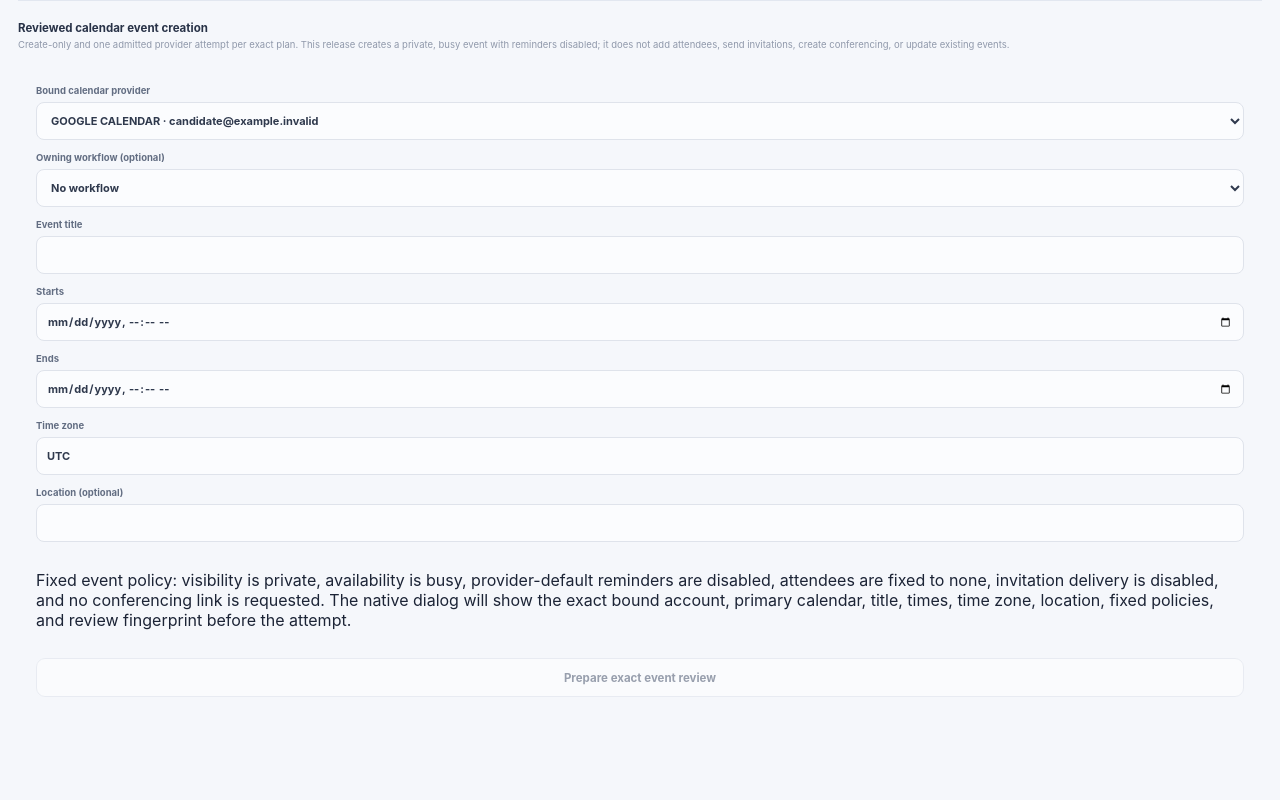
it: calendar event panel › prepares only a create-only event with no attendees, invitations, or conferencing
Expected: the text "does not add attendees, send invitations" is shown, x1=18 y1=39 x2=1010 y2=50
Select "Example employer · Software Engineer · workflow-1" in the dropdown labelled "Owning workflow (optional)" at (640, 188), box x1=36 y1=169 x2=1244 y2=207
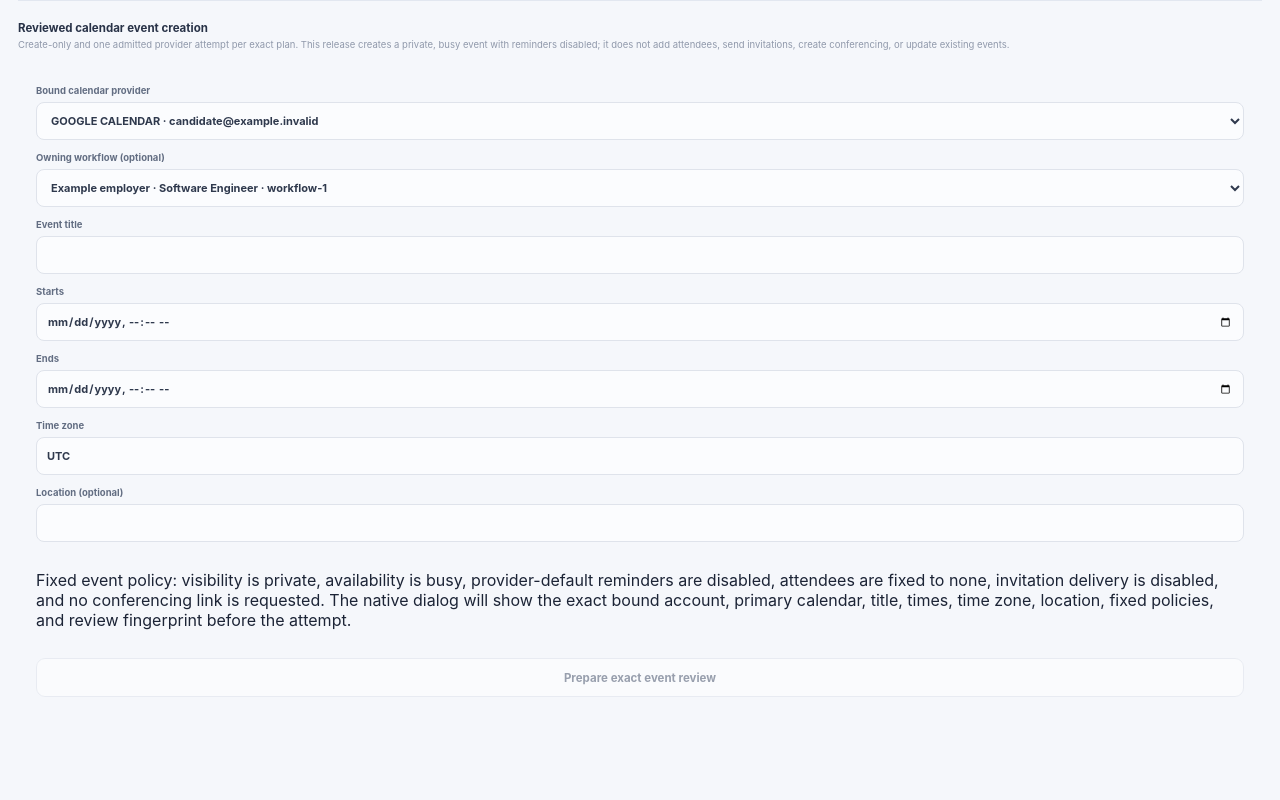
Type "Interview with Example Co" into the field labelled "Event title" at (640, 255), box x1=36 y1=236 x2=1244 y2=274
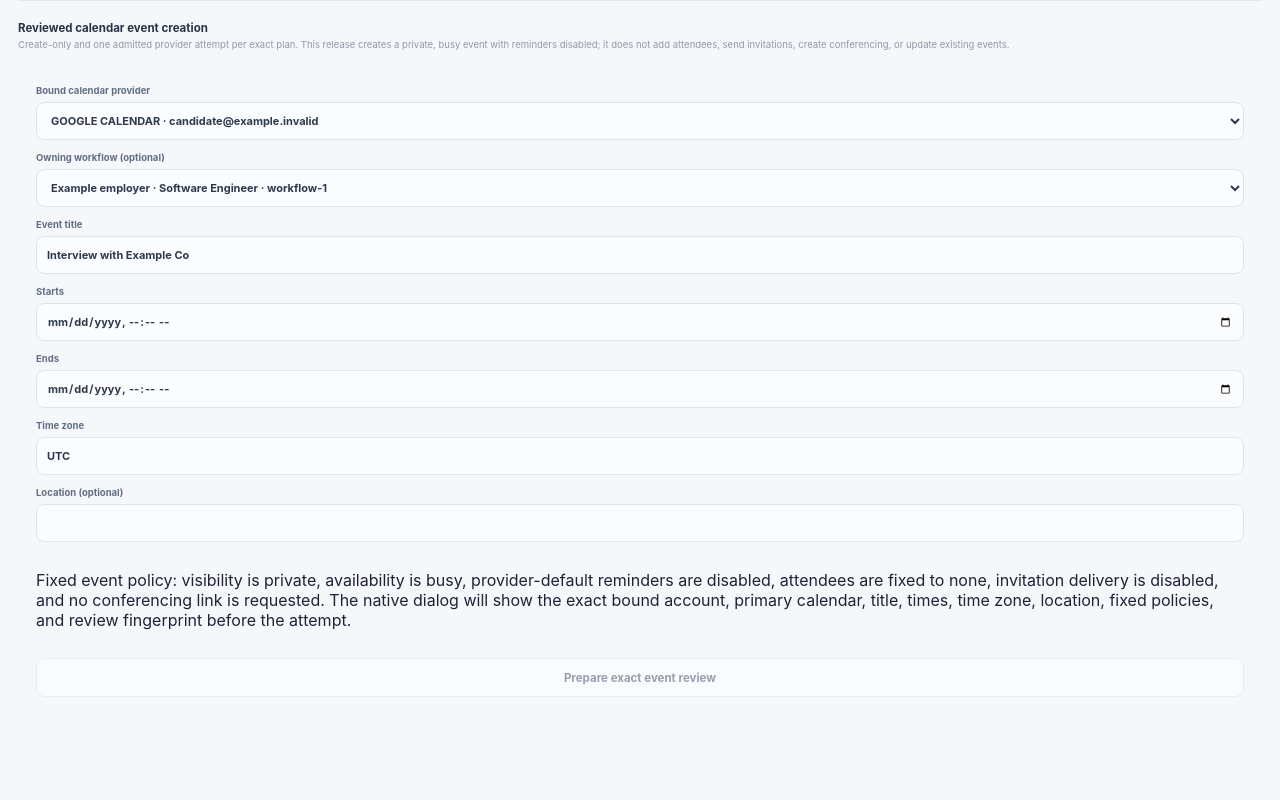
Type "2026-10-15T10:00" into the field labelled "Starts" at (640, 322), box x1=36 y1=303 x2=1244 y2=341
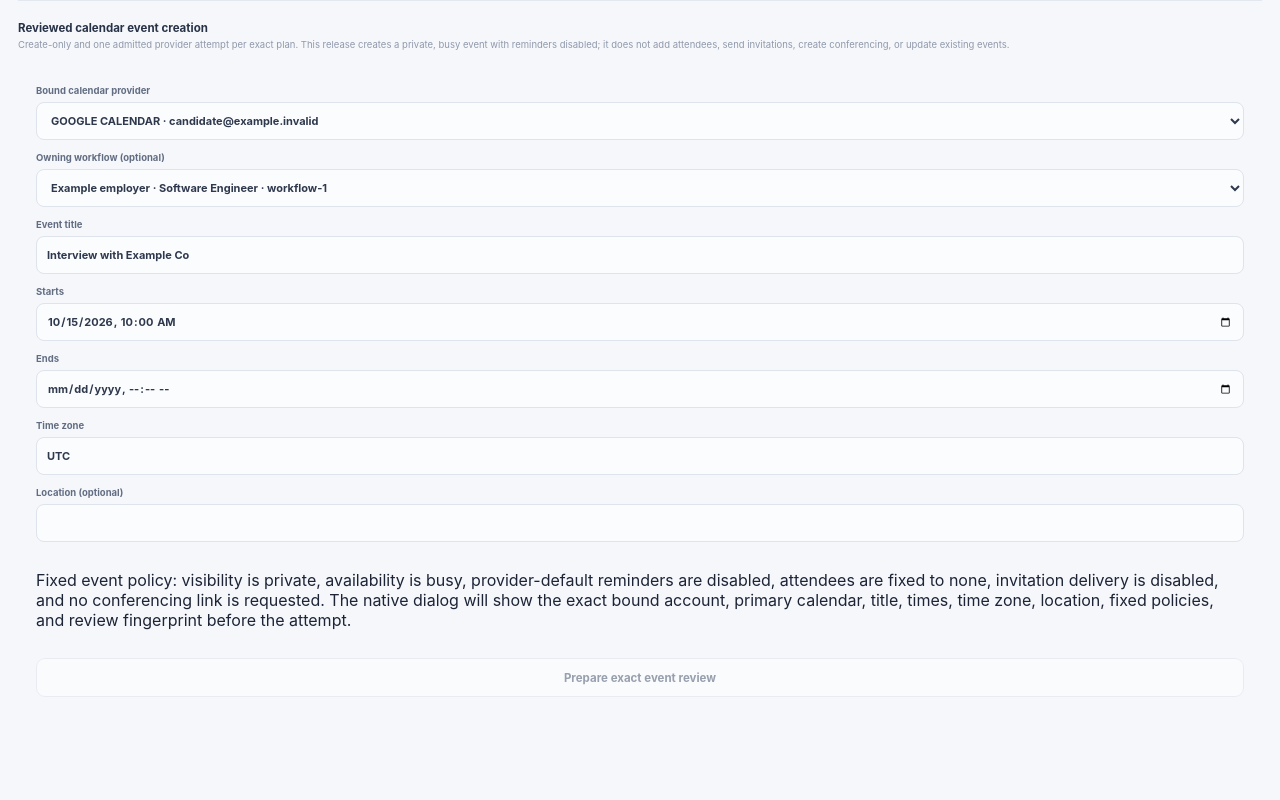
Type "2026-10-15T11:00" into the field labelled "Ends" at (640, 389), box x1=36 y1=370 x2=1244 y2=408
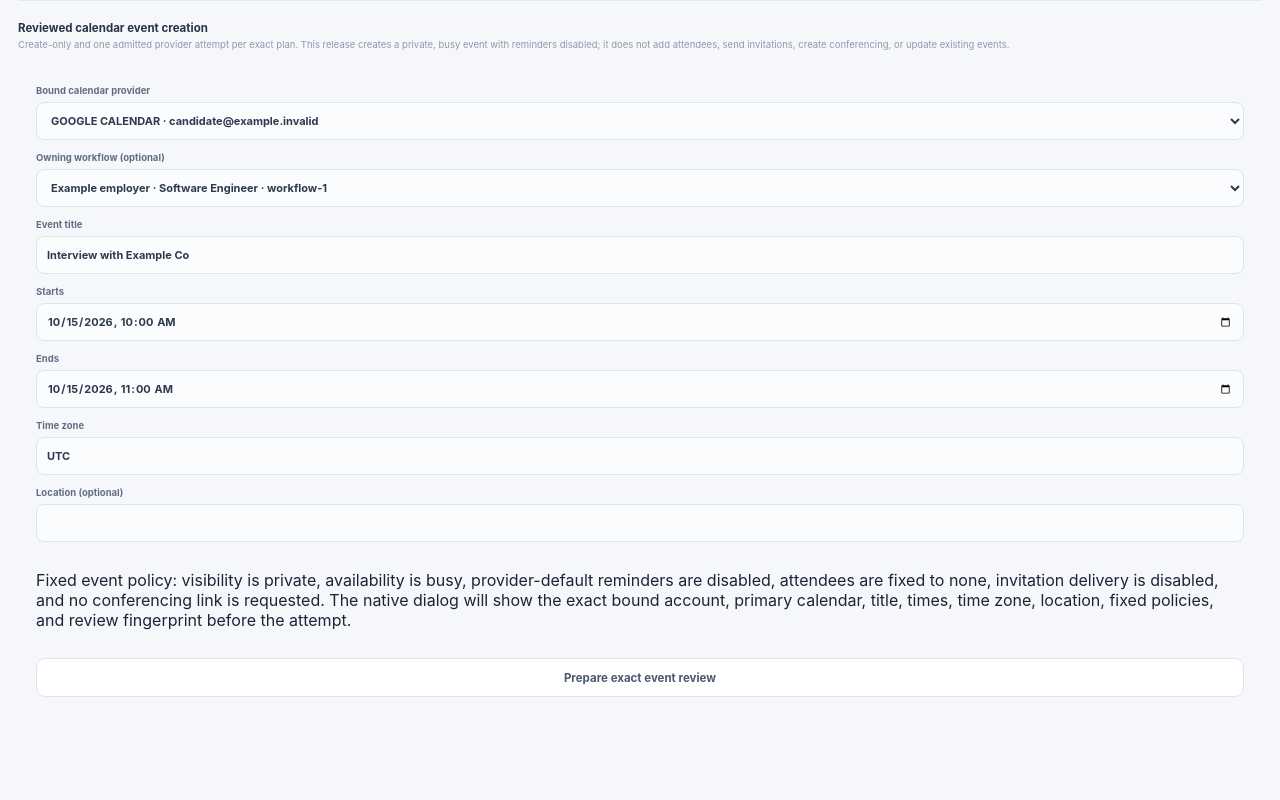
Type "Conference room 3" into the field labelled "Location (optional)" at (640, 523), box x1=36 y1=504 x2=1244 y2=542
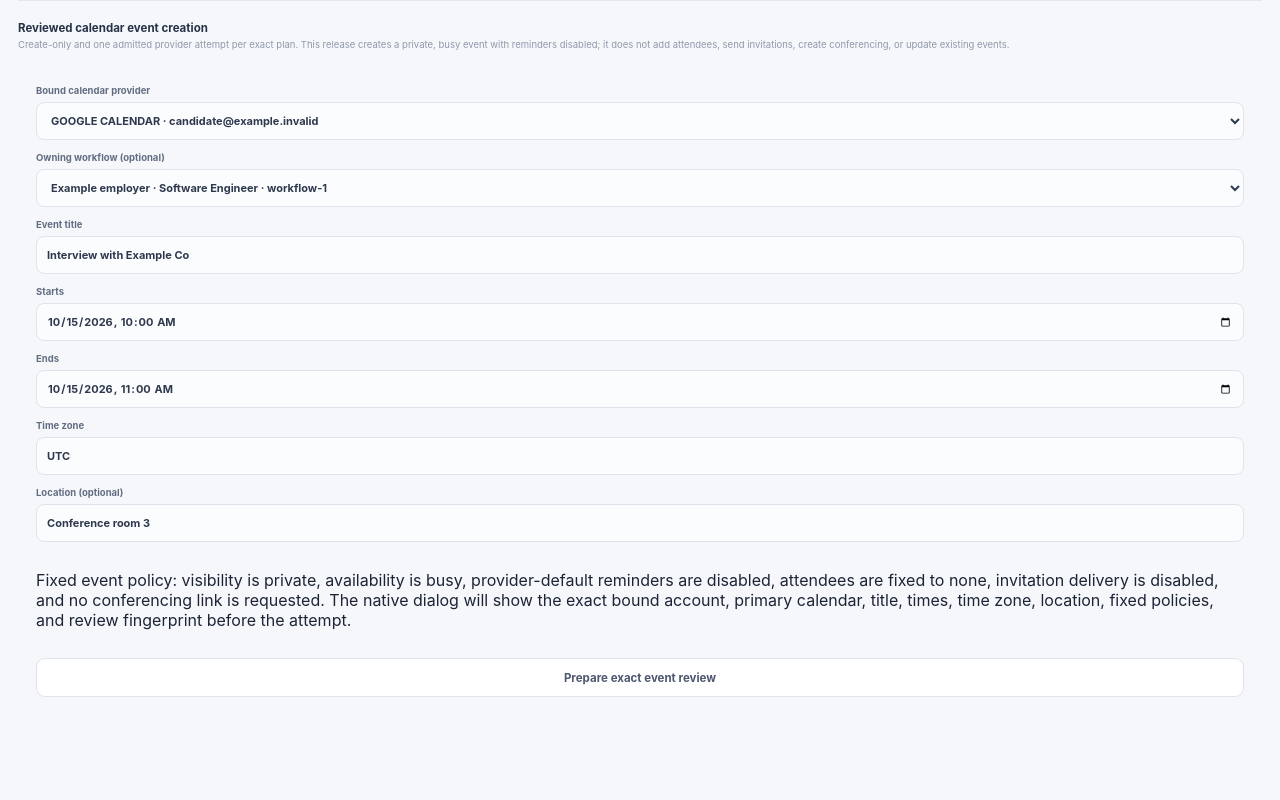
Click the button "Prepare exact event review" at (640, 678), box x1=36 y1=658 x2=1244 y2=697
(page scrolled)
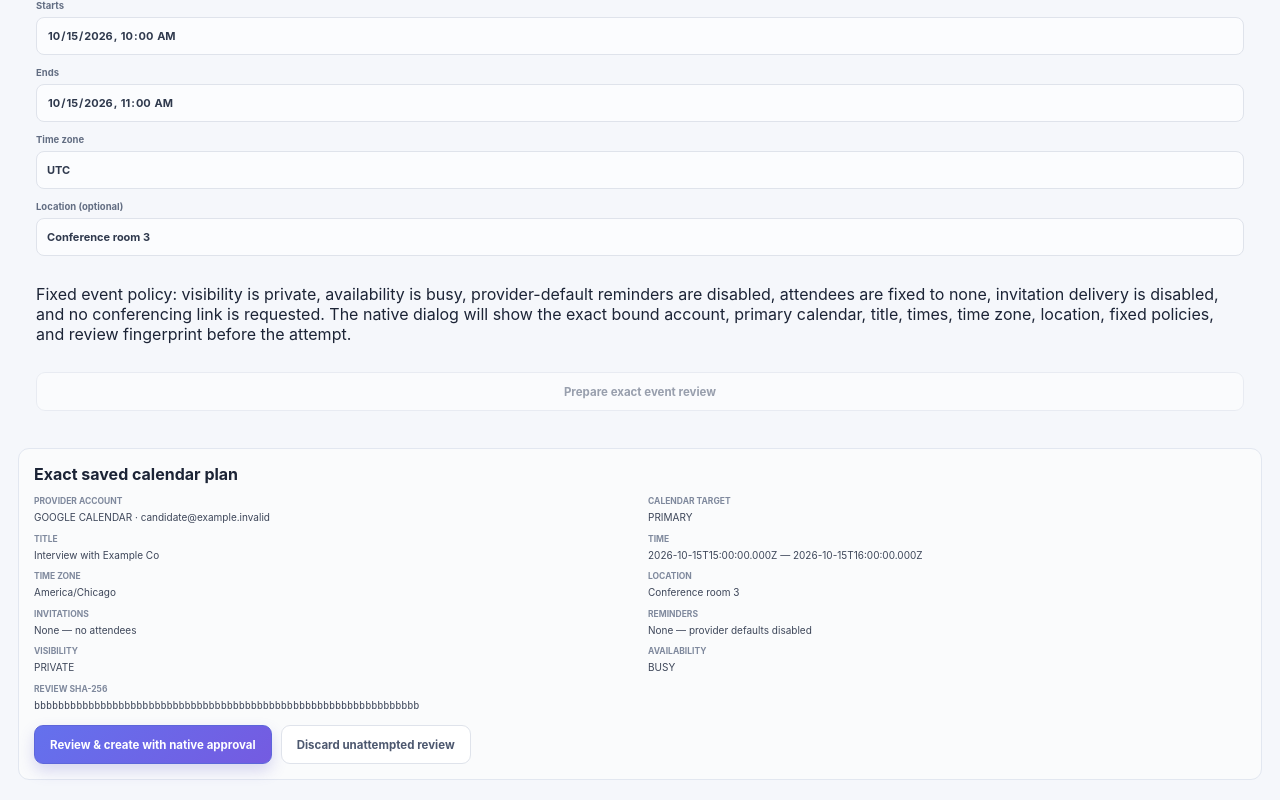
Now the text "None — no attendees" is shown, box x1=34 y1=624 x2=136 y2=636
Now the text "None — provider defaults disabled" is shown, box x1=648 y1=624 x2=812 y2=636
Now the text "PRIVATE" is shown, box x1=34 y1=661 x2=74 y2=673
